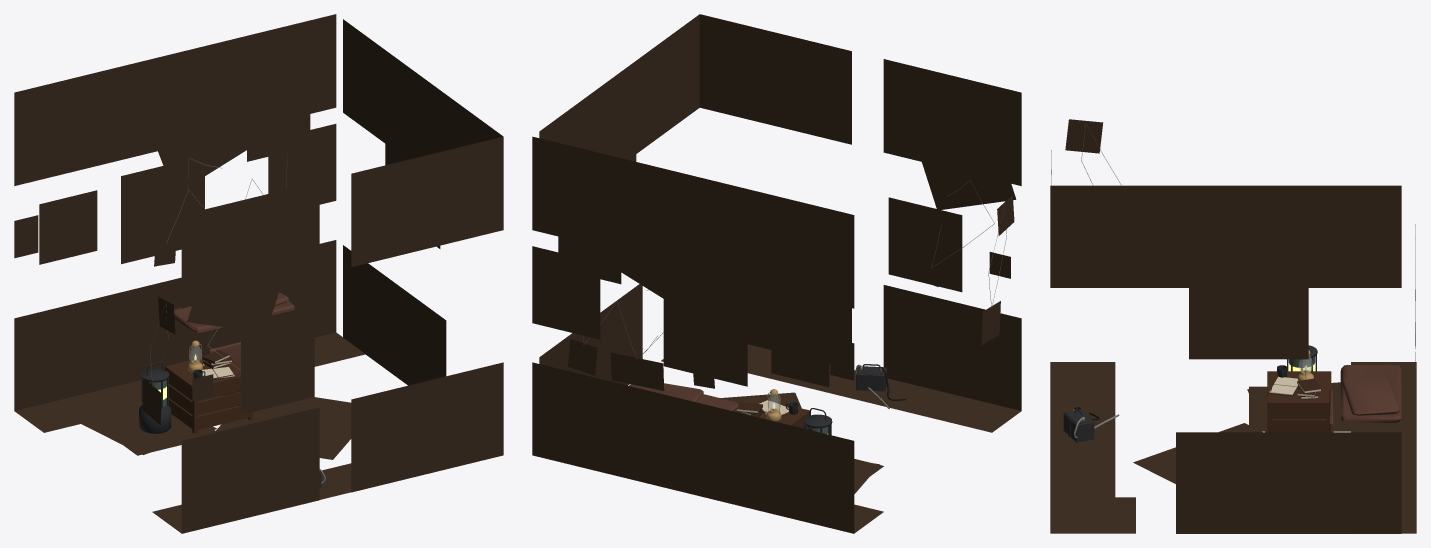
Rendered from ch3_dress_camp.glb.
3 views of the same model, side by side, from view 1: azimuth 30°, elevation 25°; view 2: azimuth 150°, elevation 25°; view 3: azimuth 270°, elevation 25° (orthographic). The views are drawn at different scales.
Parts seen in each view (by area): view 1: ch3_dress_camp; view 2: ch3_dress_camp; view 3: ch3_dress_camp.
Part boxes in pixels (x1,y1,x2,y2): ch3_dress_camp: (14,14,503,533); ch3_dress_camp: (532,14,1021,533); ch3_dress_camp: (1050,119,1416,533).
Size of the model in its own units: 3.06 by 2.89 by 2.76.
